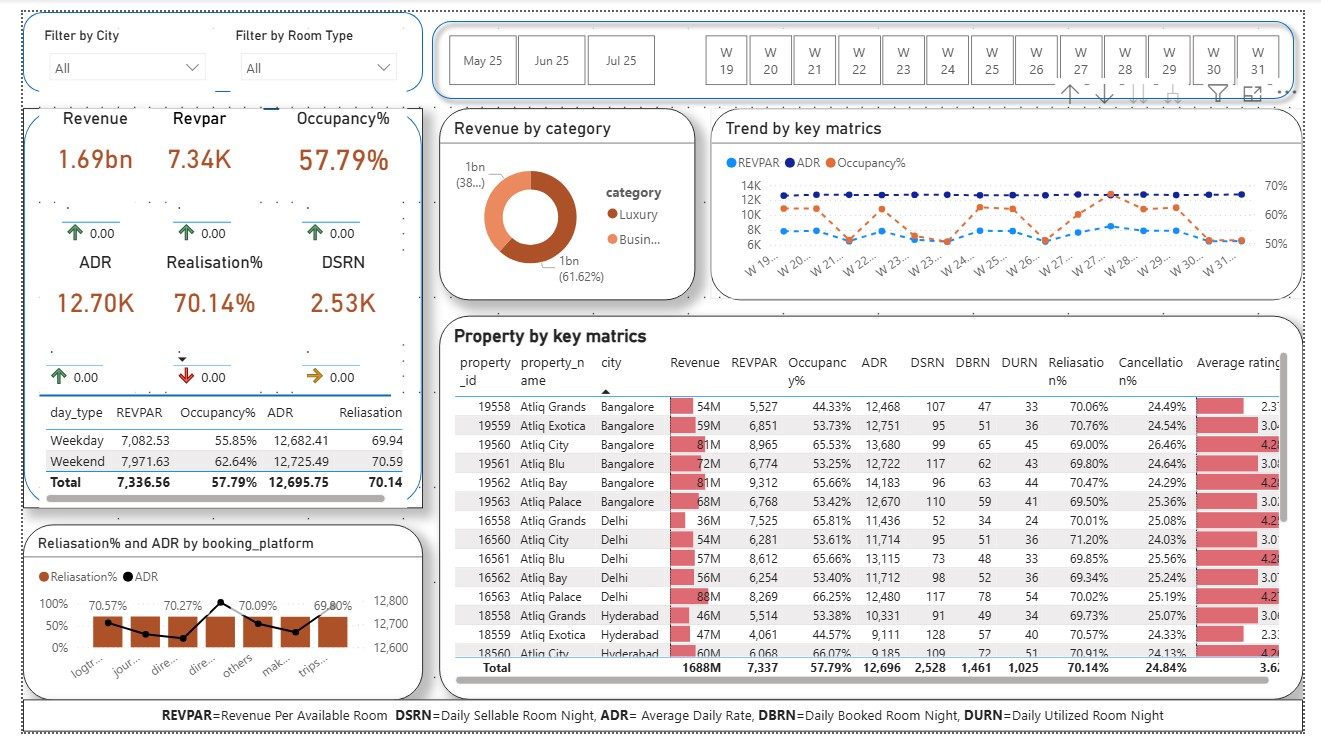

The page's visual inventory and layout, read from the dashboard file:
{"tool":"powerbi","page":{"name":"Page 1","canvas":[1280,720],"ordinal":0},"visuals":[{"type":"shape","box":[0,0,400,80],"z":500},{"type":"shape","box":[0,96,400,400],"z":1000},{"type":"tableEx","title":"Property by key matrics","fields":{"Values":["dim_hotels.property_id","dim_hotels.property_name","dim_hotels.city","key mesures.Revenue","key mesures.REVPAR","key mesures.Occupancy%","key mesures.ADR%","key mesures.DSRN","key mesures.DBRN","key mesures.DURN","key mesures.Reliasation%","key mesures.Cancellation%"]},"box":[416,304,864,384],"z":2000},{"type":"slicer","title":"Filter by City","fields":{"Values":["dim_hotels.city"]},"box":[16,16,176,64],"z":3000},{"type":"slicer","title":"Filter by Room Type","fields":{"Values":["dim_rooms.room_class"]},"box":[208,16,176,64],"z":4000},{"type":"slicer","fields":{"Values":["dim_date.mmm yy"]},"box":[400,16,256,64],"z":5000},{"type":"slicer","fields":{"Values":["dim_date.week no"]},"box":[656,16,624,64],"z":6000},{"type":"card","title":"Revenue","fields":{"Values":["key mesures.Revenue"]},"box":[16,96,112,80],"z":7000},{"type":"tableEx","fields":{"Values":["key mesures.\"Revenue WoW change %"]},"box":[32,176,80,64],"z":8000},{"type":"donutChart","fields":{"Y":["key mesures.Revenue"],"Category":["dim_hotels.category"]},"box":[416,96,256,192],"z":9000},{"type":"lineChart","title":"Trend by key matrics","fields":{"Category":["dim_date.week no","dim_date.mmm yy.Variation.Date Hierarchy.Month"],"Y2":["key mesures.Occupancy%"],"Y":["key mesures.REVPAR","key mesures.ADR%"]},"box":[688,96,592,192],"z":10000},{"type":"tableEx","fields":{"Values":["dim_date.day_type","key mesures.REVPAR","key mesures.Occupancy%","key mesures.ADR%","key mesures.Reliasation%"]},"box":[16,384,368,112],"z":11000},{"type":"lineStackedColumnComboChart","fields":{"Y":["key mesures.Reliasation%"],"Category":["fact_bookings.booking_platform"],"Y2":["key mesures.ADR"]},"box":[0,512,400,176],"z":12000},{"type":"card","title":"Revpar","fields":{"Values":["key mesures.REVPAR"]},"box":[112,96,128,80],"z":13000},{"type":"card","title":"DSRN","fields":{"Values":["key mesures.DSRN"]},"box":[256,240,128,80],"z":14000},{"type":"card","title":"Occupancy%","fields":{"Values":["key mesures.Occupancy%"]},"box":[256,96,128,80],"z":15000},{"type":"card","title":"ADR","fields":{"Values":["key mesures.ADR"]},"box":[16,240,112,80],"z":16000},{"type":"card","title":"Realisation%","fields":{"Values":["key mesures.Reliasation%"]},"box":[128,240,128,80],"z":17000},{"type":"tableEx","fields":{"Values":["key mesures.\"Revpar WoW change %"]},"box":[144,176,80,64],"z":18000},{"type":"tableEx","fields":{"Values":["key mesures.Occupancy WoW change %"]},"box":[272,176,96,64],"z":19000},{"type":"tableEx","fields":{"Values":["key mesures.ADR WoW change %"]},"box":[16,320,96,64],"z":20000},{"type":"tableEx","fields":{"Values":["key mesures.\"DSRN WoW change %"]},"box":[272,320,96,64],"z":21000},{"type":"tableEx","fields":{"Values":["key mesures.Realisation WoW change %"]},"box":[144,320,80,64],"z":22000},{"type":"textbox","box":[0,688,1280,32],"z":23000},{"type":"shape","box":[16,368,352,32],"z":24000},{"type":"shape","box":[400,0,880,96],"z":25000}]}

Visuals, with their boxes in screenshot pixels (x1, y1, x2, y2), scaled from the page's 1280x720 canvas onto the 1321x737 screenshot:
shape: rect(0, 0, 413, 82)
shape: rect(0, 98, 413, 508)
"Property by key matrics" tableEx: rect(429, 311, 1320, 704)
"Filter by City" slicer: rect(17, 16, 198, 82)
"Filter by Room Type" slicer: rect(215, 16, 396, 82)
slicer - dim_date.mmm yy: rect(413, 16, 677, 82)
slicer - dim_date.week no: rect(677, 16, 1320, 82)
"Revenue" card: rect(17, 98, 132, 180)
tableEx - key mesures."Revenue WoW change %: rect(33, 180, 116, 246)
donutChart - key mesures.Revenue x dim_hotels.category: rect(429, 98, 694, 295)
"Trend by key matrics" lineChart: rect(710, 98, 1320, 295)
tableEx - dim_date.day_type x key mesures.REVPAR: rect(17, 393, 396, 508)
lineStackedColumnComboChart - key mesures.Reliasation% x fact_bookings.booking_platform: rect(0, 524, 413, 704)
"Revpar" card: rect(116, 98, 248, 180)
"DSRN" card: rect(264, 246, 396, 328)
"Occupancy%" card: rect(264, 98, 396, 180)
"ADR" card: rect(17, 246, 132, 328)
"Realisation%" card: rect(132, 246, 264, 328)
tableEx - key mesures."Revpar WoW change %: rect(149, 180, 231, 246)
tableEx - key mesures.Occupancy WoW change %: rect(281, 180, 380, 246)
tableEx - key mesures.ADR WoW change %: rect(17, 328, 116, 393)
tableEx - key mesures."DSRN WoW change %: rect(281, 328, 380, 393)
tableEx - key mesures.Realisation WoW change %: rect(149, 328, 231, 393)
textbox: rect(0, 704, 1320, 736)
shape: rect(17, 377, 380, 409)
shape: rect(413, 0, 1320, 98)
